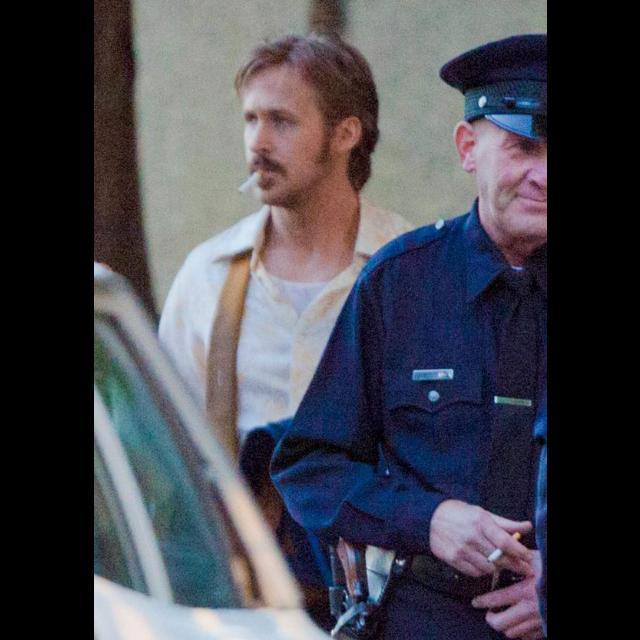rokok: (233, 168, 264, 198)
